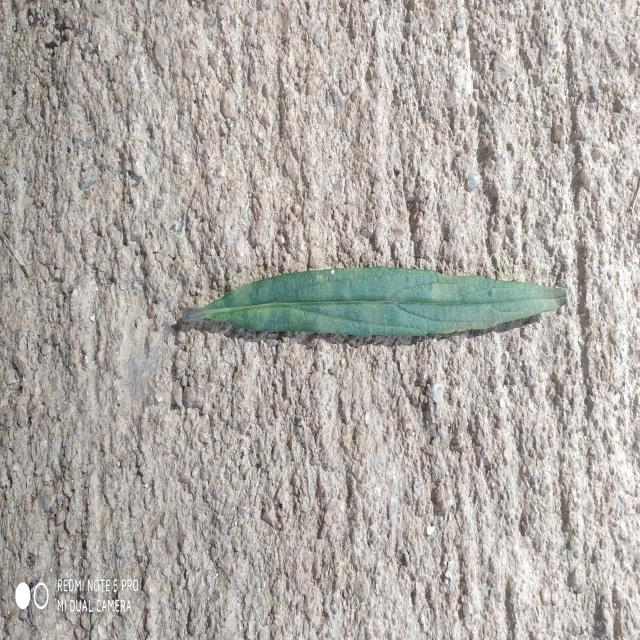defectedthambe: (371, 269, 555, 336)
thambe: (182, 267, 566, 338)
